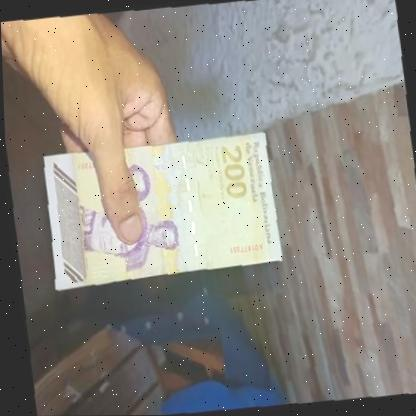vef_front: (33, 130, 284, 290)
